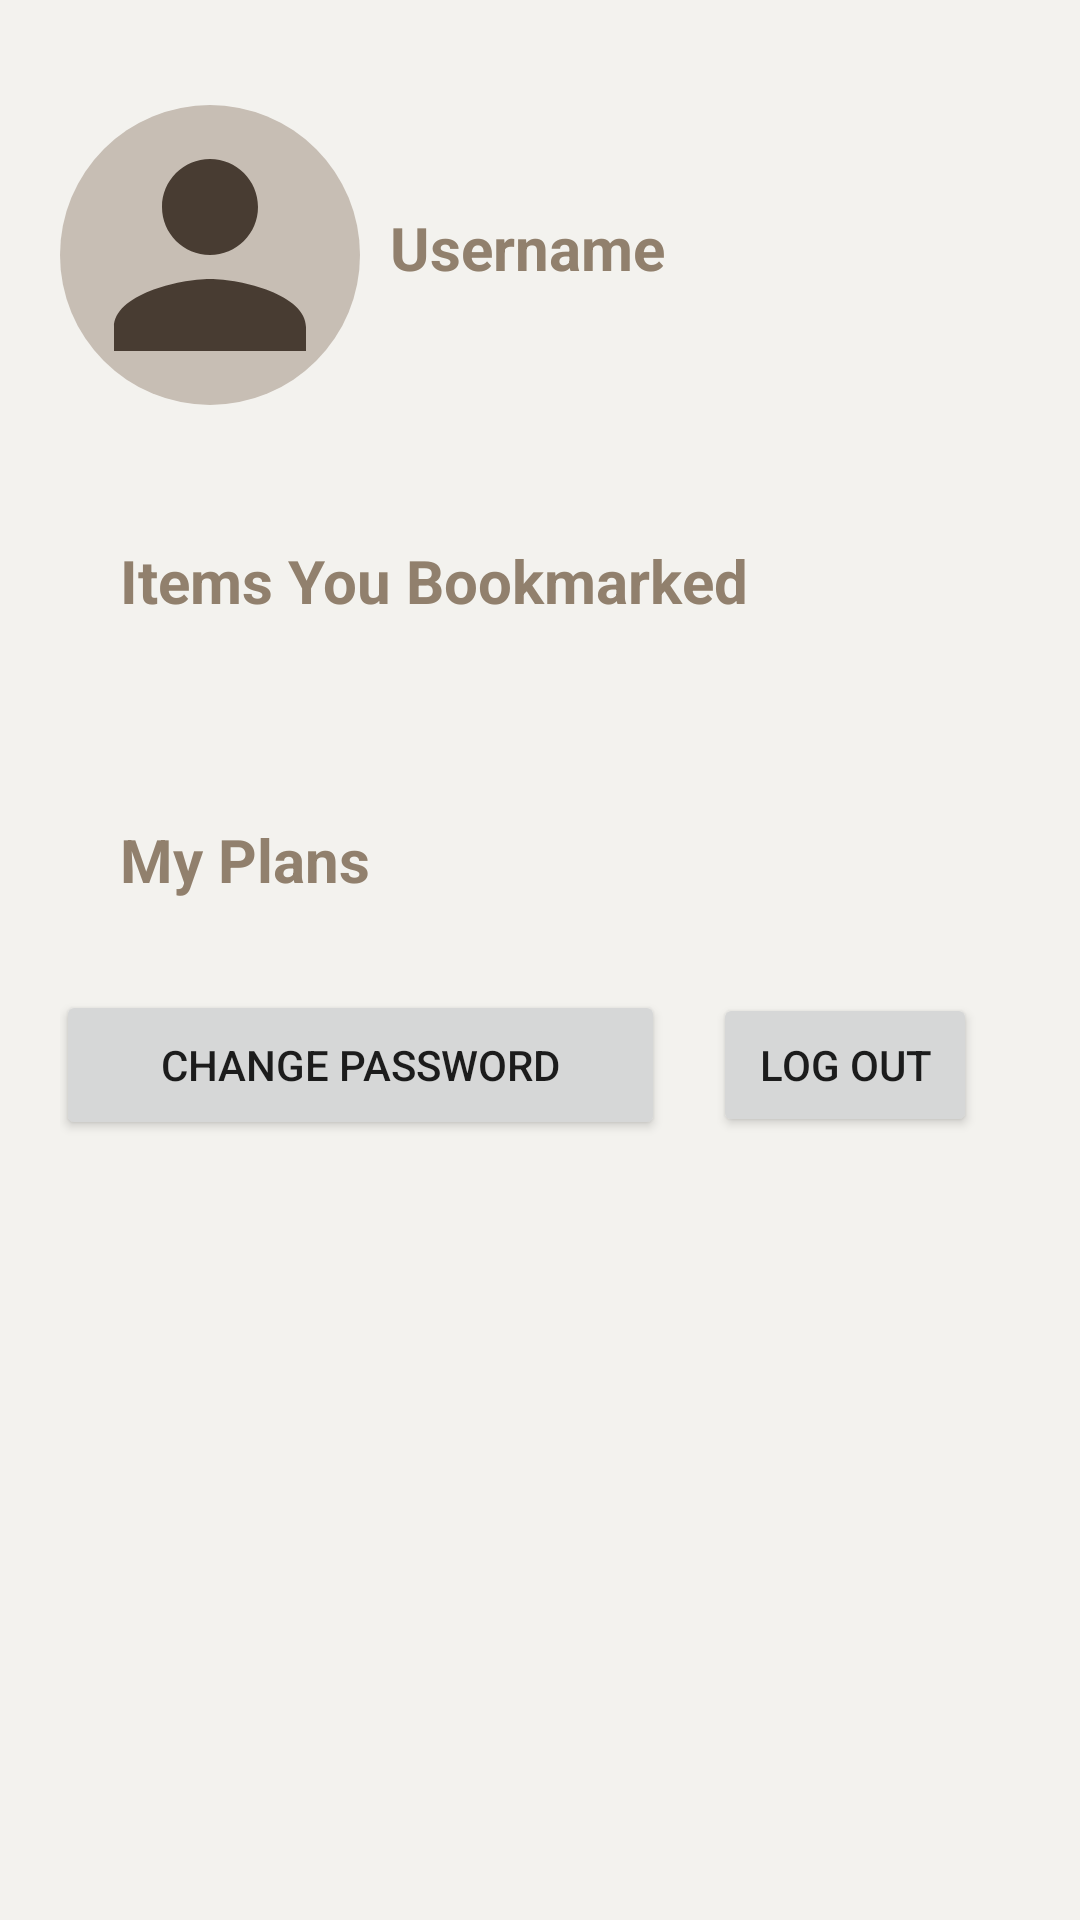

Where icons sit on this 1080 x 1920 app screen, as [x1=x1, y1=y1, x2=x2, y2=y2]:
person: [x1=60, y1=105, x2=360, y2=405]
